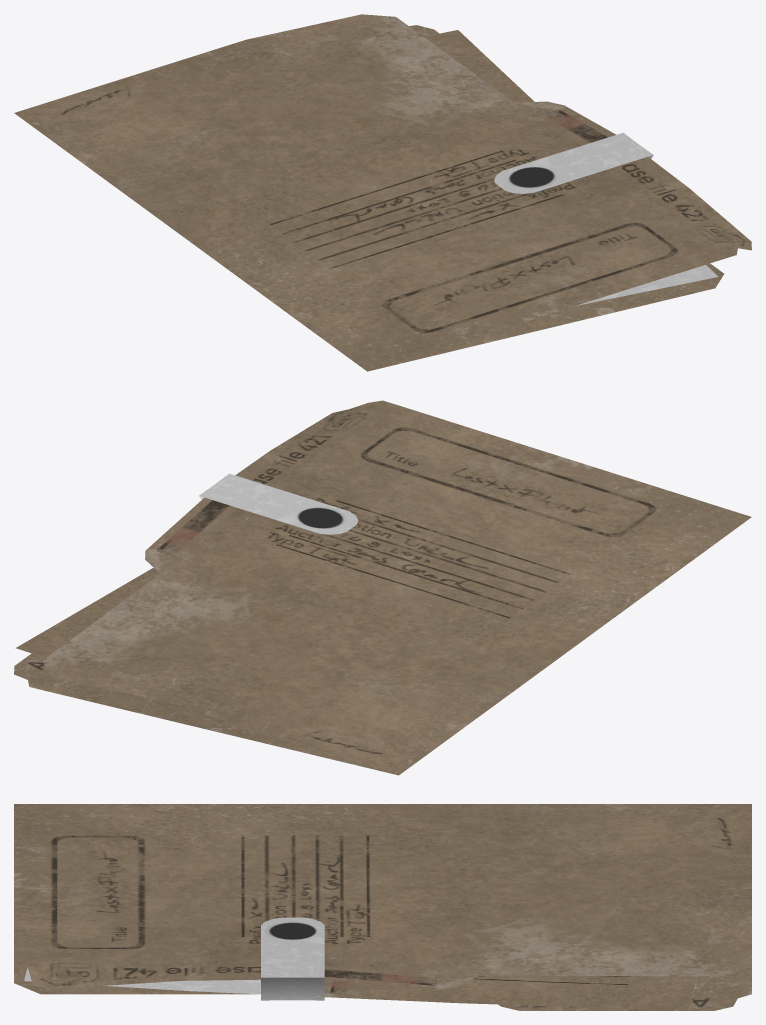
File: SM_File_Pocket3.fbx
3 renders of one model, top to bottom at view 1: azimuth 30°, elevation 25°; view 2: azimuth 150°, elevation 25°; view 3: azimuth 270°, elevation 25°, orthographic. The views are drawn at different scales.
Parts seen in each view (by area): view 1: SM_File_Pocket3_LOD0; view 2: SM_File_Pocket3_LOD0; view 3: SM_File_Pocket3_LOD0.
Boxes of the visible parts, x1,y1,x2,y2 form: SM_File_Pocket3_LOD0: (14,14,751,371); SM_File_Pocket3_LOD0: (14,400,751,775); SM_File_Pocket3_LOD0: (14,804,751,1010).
Size of the model in its own units: 31.98 by 47.29 by 2.56.
Materials: 1 (1 with a texture image).
